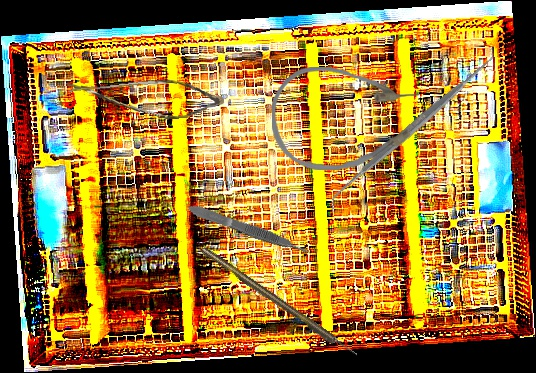Cannula: (272, 67, 419, 170)
Hook Surgical: (200, 245, 359, 360)
Micro Scissor: (62, 66, 226, 131)
Spatula Surgical: (317, 44, 507, 215)
Tissue Forceps: (186, 200, 314, 261)
